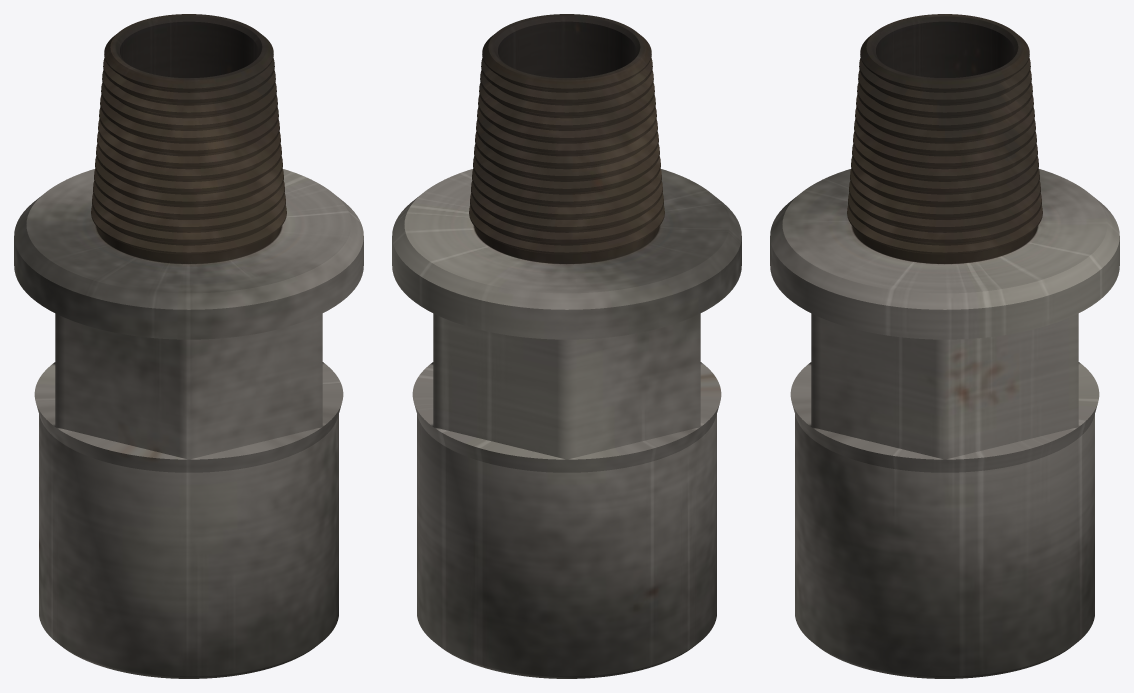
Rendered from SM_SaverSub_3_1_2.glb.
3 renders of one model, left to right at view 1: azimuth 30°, elevation 25°; view 2: azimuth 150°, elevation 25°; view 3: azimuth 270°, elevation 25°, orthographic.
Visible parts, largest first — view 1: SaverSub_3_1_2; view 2: SaverSub_3_1_2; view 3: SaverSub_3_1_2.
Part boxes in pixels (bbox=[...]): SaverSub_3_1_2: bbox=[14, 14, 363, 678]; SaverSub_3_1_2: bbox=[392, 14, 741, 678]; SaverSub_3_1_2: bbox=[770, 14, 1119, 678].
Bounding box in the file's own units: 0.17 × 0.3063 × 0.17.
Materials: 1 (1 with a texture image).
